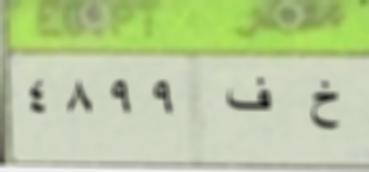4: (20, 72, 52, 128)
8: (59, 76, 94, 125)
9: (144, 72, 182, 123), (105, 74, 138, 122)
faa: (216, 72, 276, 119)
khaa: (304, 76, 342, 140)
